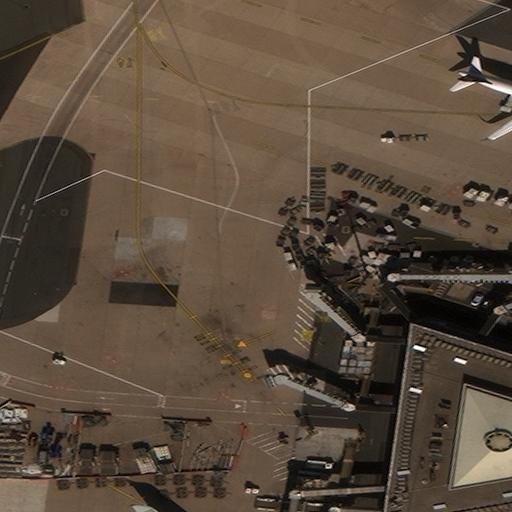Medium Civil Transport: (458, 57, 512, 141)
